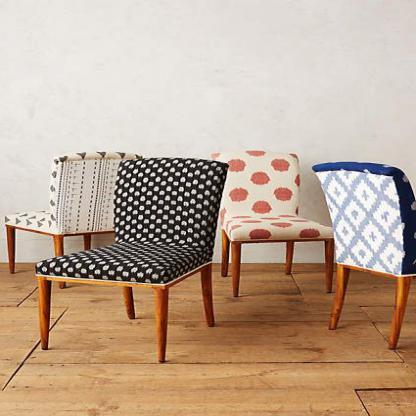chair: (30, 159, 216, 367), (312, 152, 416, 352), (204, 142, 337, 293), (4, 147, 124, 248)
